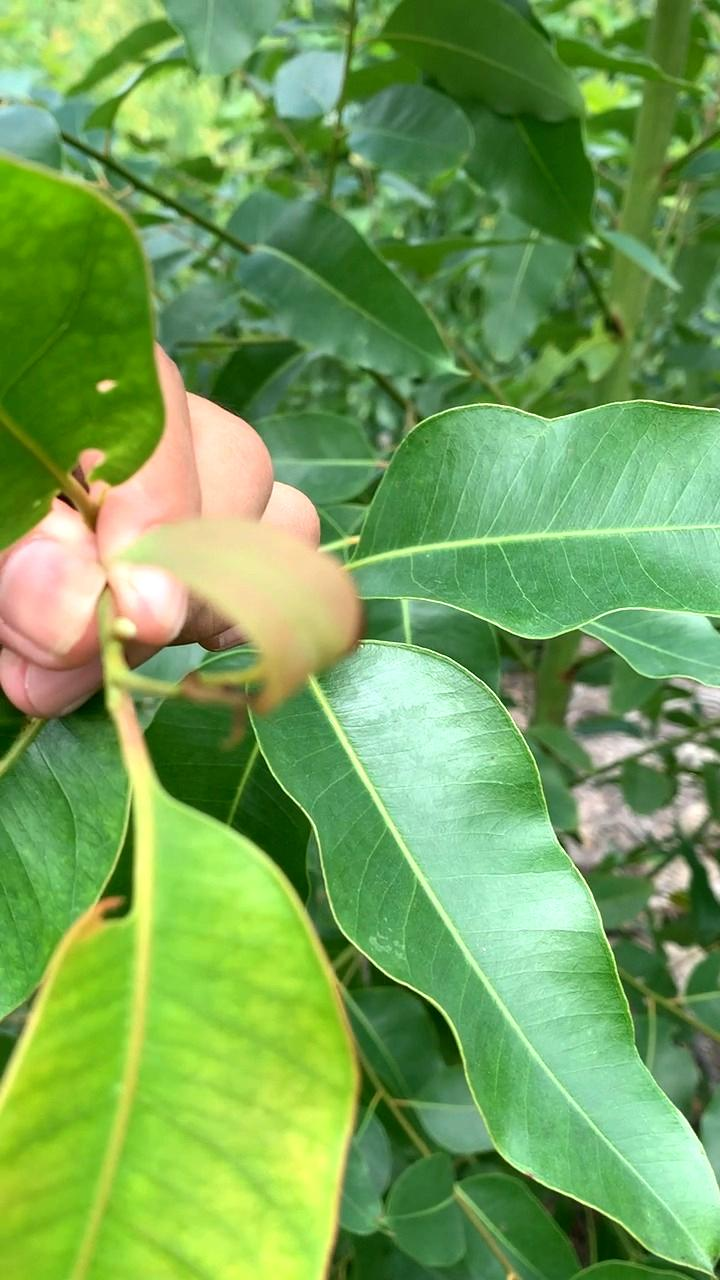Helopeltis-Withered Sprout: (100, 510, 363, 747)
